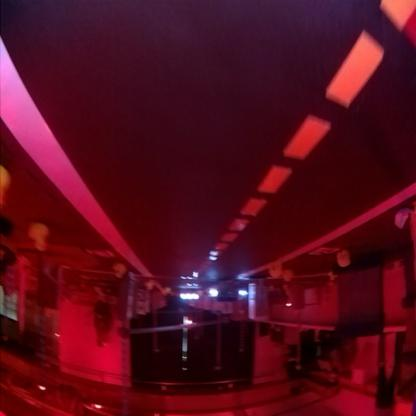Duckie: (29, 224, 49, 250), (114, 264, 126, 278), (340, 250, 350, 266), (284, 270, 294, 284), (270, 266, 282, 277)
Duckiebot: (212, 280, 247, 302), (180, 290, 200, 302)
